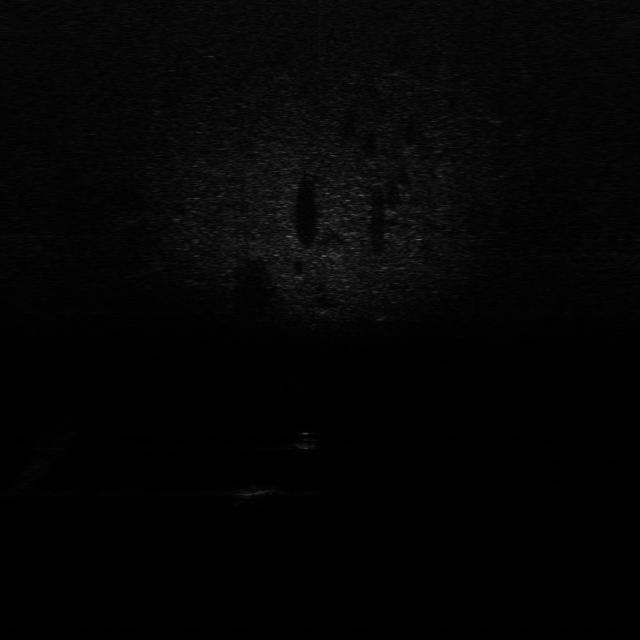ball: (286, 428, 322, 452)
square cage: (234, 482, 288, 501)
tyre: (362, 295, 396, 321)
